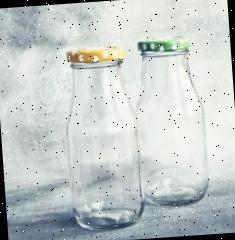glass: (58, 32, 213, 234)
